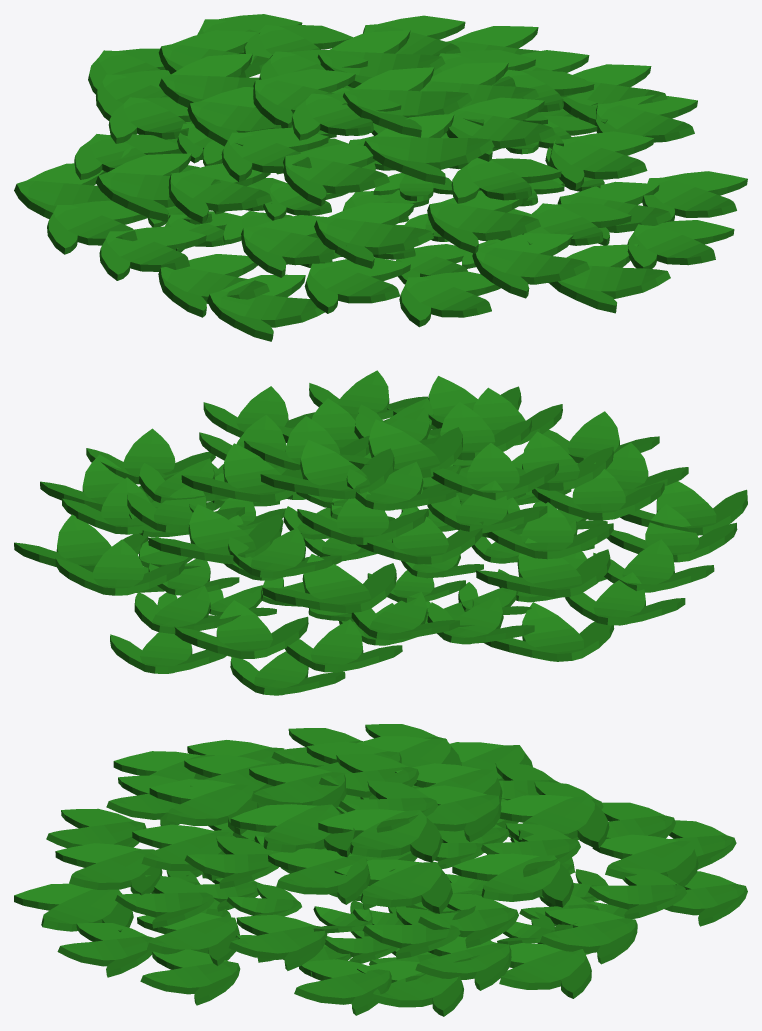
The model's file is PilaHoja2.fbx.
3 renders of one model, top to bottom at view 1: azimuth 30°, elevation 25°; view 2: azimuth 150°, elevation 25°; view 3: azimuth 270°, elevation 25°, orthographic. The views are drawn at different scales.
Parts seen in each view (by area): view 1: PilaHoja2; view 2: PilaHoja2; view 3: PilaHoja2.
Boxes of the visible parts, x1=… form: PilaHoja2: x1=14, y1=14, x2=747, y2=341; PilaHoja2: x1=14, y1=370, x2=747, y2=695; PilaHoja2: x1=14, y1=724, x2=747, y2=1016.
Bounding box in the file's own units: 53.68 × 6.78 × 58.52.
